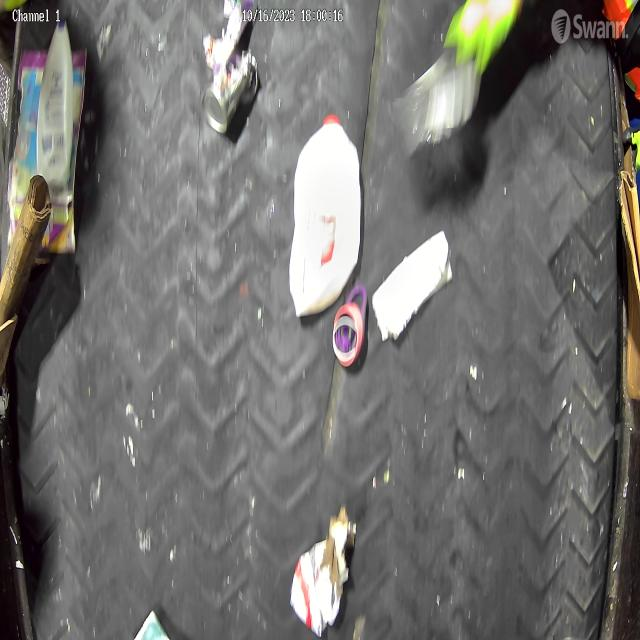can: (202, 49, 258, 134)
milk_jug: (289, 112, 361, 319)
